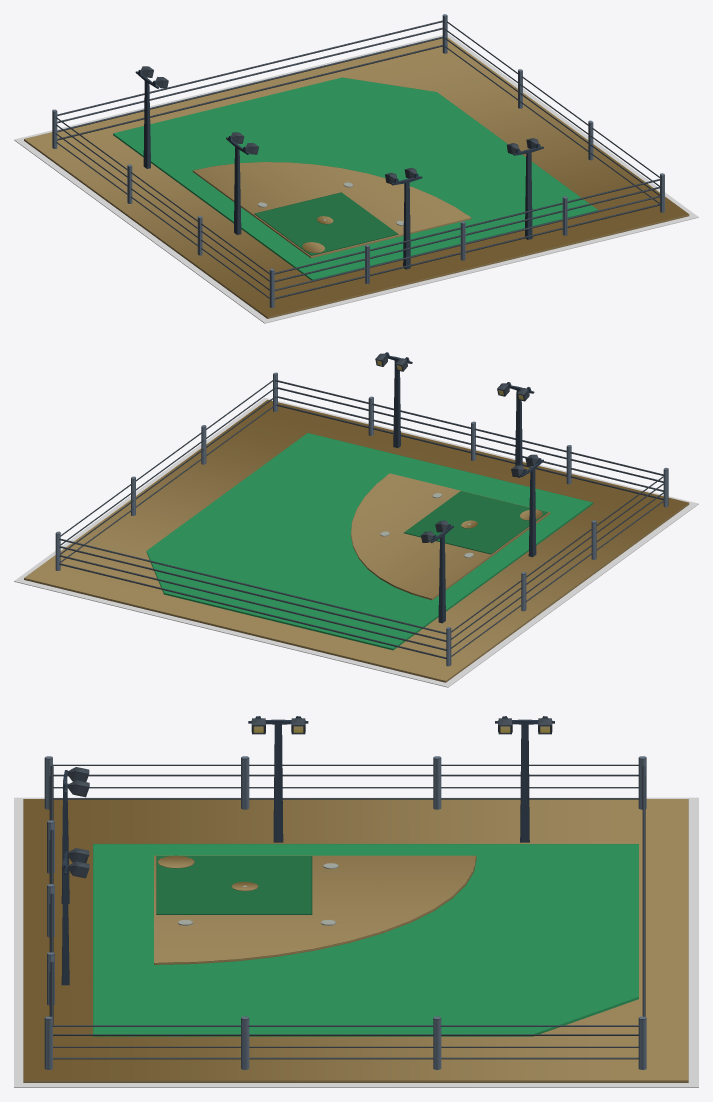
The model's file is ballyard.glb.
3 renders of one model, top to bottom at view 1: azimuth 30°, elevation 25°; view 2: azimuth 150°, elevation 25°; view 3: azimuth 270°, elevation 25°, orthographic. The views are drawn at different scales.
Parts seen in each view (by area): view 1: Node, Cube; view 2: Node, Cube; view 3: Node, Cube.
Part boxes in pixels (<box>): Node: <box>24,14,689,318</box>; Cube: <box>14,33,698,323</box>; Node: <box>24,352,689,682</box>; Cube: <box>14,397,698,687</box>; Node: <box>23,716,688,1082</box>; Cube: <box>14,797,698,1087</box>.
Bounding box in the file's own units: 70 × 15 × 70.
2 materials, 1 textured.
